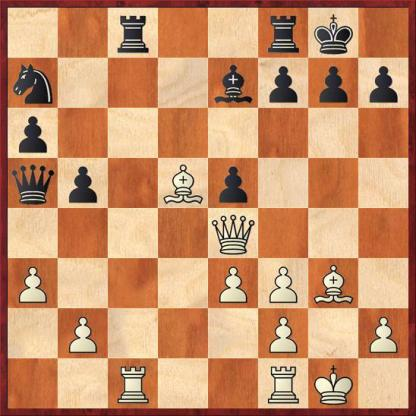black-bishop: (211, 58, 256, 108)
black-king: (310, 11, 359, 57)
black-knight: (10, 59, 56, 109)
black-pawn: (214, 158, 256, 204), (264, 61, 306, 106), (63, 160, 104, 206), (314, 60, 355, 105), (15, 112, 55, 155), (365, 60, 404, 104)
black-queen: (10, 162, 60, 204)
black-rook: (262, 8, 306, 56), (111, 11, 156, 53)
white-bishop: (160, 156, 207, 208), (308, 261, 358, 306)
white-king: (312, 361, 358, 406)
white-pawn: (64, 309, 104, 356), (16, 260, 52, 306), (267, 260, 302, 306), (265, 312, 300, 356), (218, 261, 250, 306), (367, 313, 401, 355)
white-queen: (209, 212, 260, 255)
white-rook: (263, 360, 304, 406), (115, 358, 153, 405)
